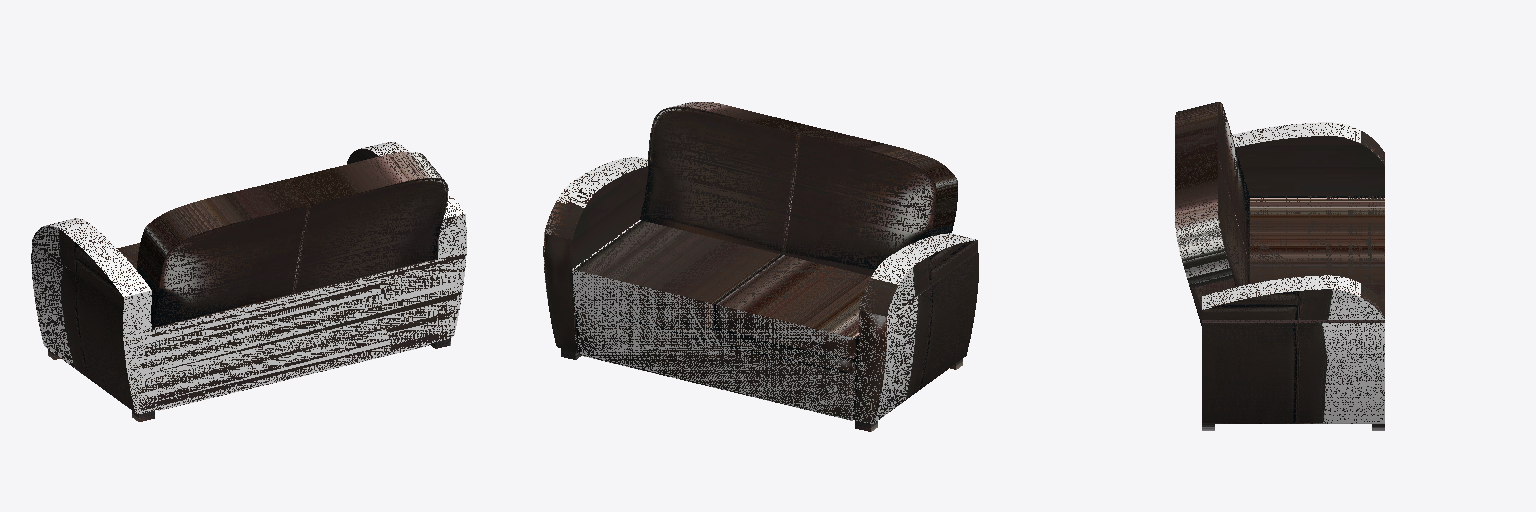
3 views of the same model, side by side, from view 1: azimuth 30°, elevation 25°; view 2: azimuth 150°, elevation 25°; view 3: azimuth 270°, elevation 25° (orthographic).
Parts seen in each view (by area): view 1: mesh2_mesh2-geometry, mesh1_mesh1-geometry; view 2: mesh2_mesh2-geometry, mesh1_mesh1-geometry; view 3: mesh2_mesh2-geometry, mesh1_mesh1-geometry.
Part boxes in pixels (bbox=[...]): mesh2_mesh2-geometry: bbox=[31, 142, 466, 421]; mesh1_mesh1-geometry: bbox=[137, 152, 448, 327]; mesh2_mesh2-geometry: bbox=[543, 157, 978, 431]; mesh1_mesh1-geometry: bbox=[640, 102, 957, 275]; mesh2_mesh2-geometry: bbox=[1202, 122, 1384, 430]; mesh1_mesh1-geometry: bbox=[1175, 102, 1249, 325].
Size of the model in its own units: 0.7933 by 0.4402 by 0.4205.
6 materials, 4 textured.